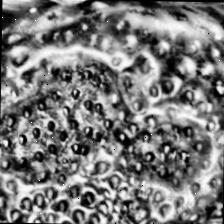Anthracnose Fruit Rot: (0, 53, 221, 191)
